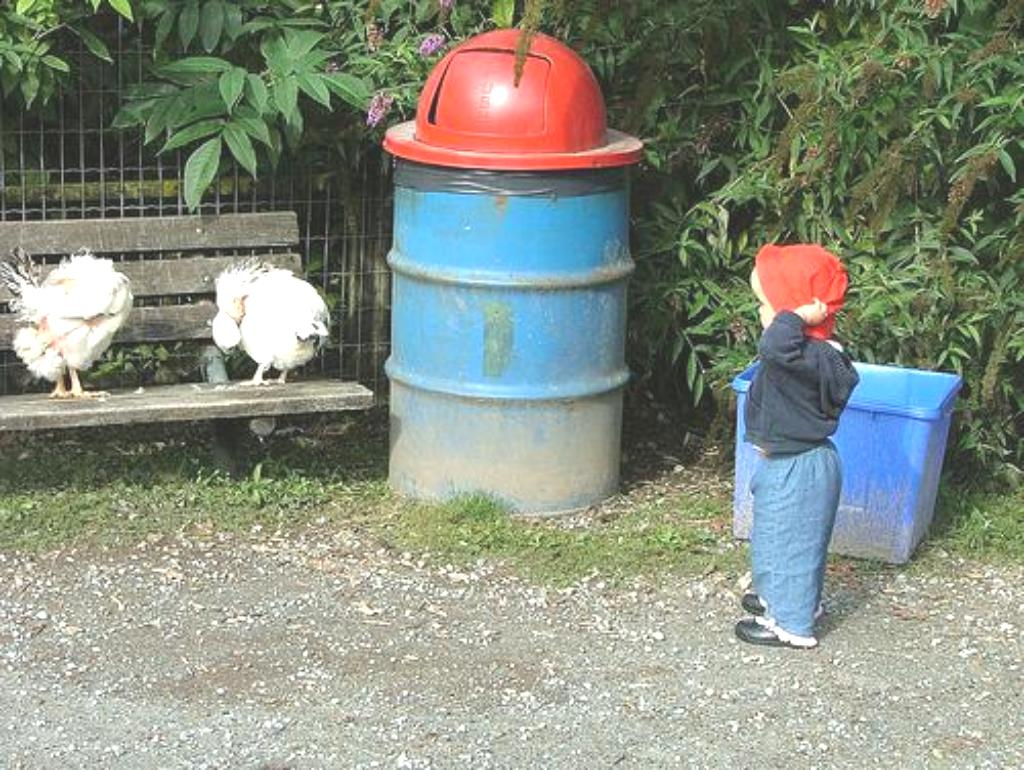dustbin: (354, 27, 646, 525)
